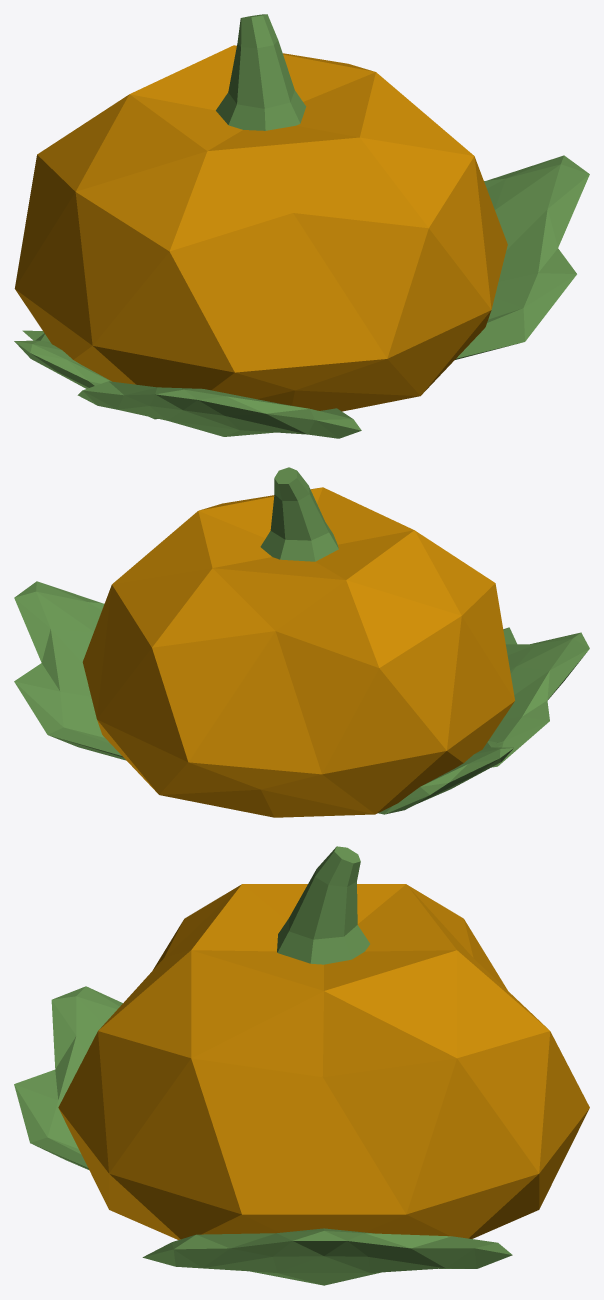
Rendered from pumpkin.fbx.
The picture shows the model from 3 angles, top to bottom: view 1: azimuth 30°, elevation 25°; view 2: azimuth 150°, elevation 25°; view 3: azimuth 270°, elevation 25°; orthographic projection. The views are drawn at different scales.
Visible parts, largest first — view 1: Icosphere; view 2: Icosphere; view 3: Icosphere.
Part boxes in pixels (left/top/right/bottom): Icosphere: left=14, top=14, right=589, bottom=438; Icosphere: left=14, top=467, right=589, bottom=817; Icosphere: left=14, top=846, right=589, bottom=1285.
Bounding box in the file's own units: 119 × 73.61 × 102.
